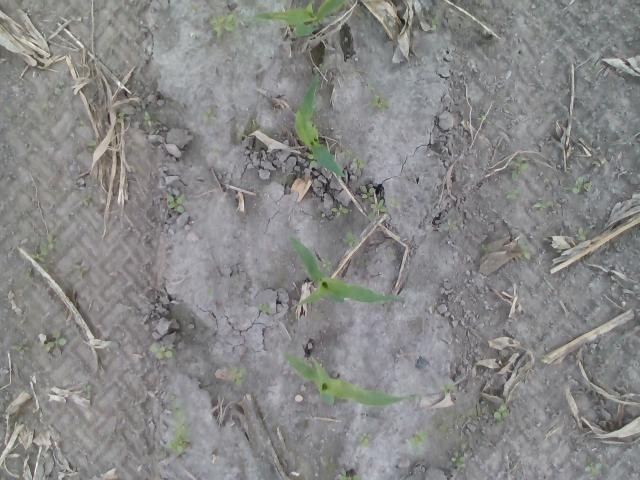Maize: (286, 235, 404, 306), (280, 350, 418, 407), (291, 68, 350, 178), (244, 0, 346, 38)
Weeds: (161, 399, 191, 455), (361, 184, 386, 220), (206, 14, 238, 41), (38, 329, 68, 353), (32, 237, 56, 263), (562, 176, 591, 194), (150, 341, 175, 361), (510, 154, 530, 178), (368, 92, 389, 112), (166, 192, 185, 214), (408, 430, 428, 450), (494, 404, 511, 424), (516, 238, 530, 262), (448, 449, 465, 468), (341, 230, 361, 246), (228, 366, 244, 386), (331, 202, 352, 216), (199, 107, 216, 124), (584, 461, 602, 475), (338, 470, 360, 480), (254, 303, 272, 315), (53, 80, 65, 96), (532, 200, 552, 209), (430, 14, 441, 30), (142, 110, 152, 127), (574, 226, 586, 240), (321, 257, 333, 271), (358, 431, 368, 447), (352, 158, 368, 168), (84, 384, 93, 401), (308, 153, 318, 168), (88, 138, 98, 153), (447, 218, 459, 230), (504, 190, 520, 198), (390, 196, 400, 208), (15, 344, 30, 352), (440, 384, 454, 392), (118, 110, 129, 120), (476, 112, 488, 121), (248, 120, 257, 130), (544, 354, 552, 364), (319, 63, 327, 72), (206, 287, 213, 297), (240, 132, 248, 139)
